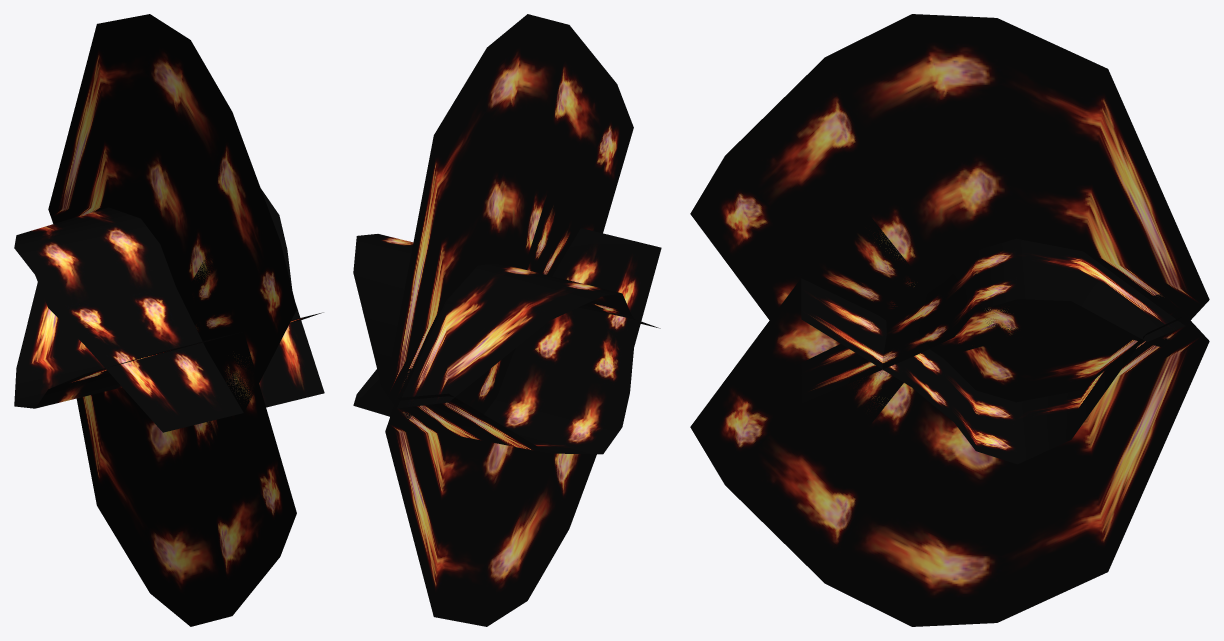
Rendered from linghunzhizhang002.fbx.
3 views of the same model, side by side, from view 1: azimuth 30°, elevation 25°; view 2: azimuth 150°, elevation 25°; view 3: azimuth 270°, elevation 25° (orthographic). The views are drawn at different scales.
Parts seen in each view (by area): view 1: linghunzhizhang002; view 2: linghunzhizhang002; view 3: linghunzhizhang002.
Boxes of the visible parts, x1,y1,x2,y2 form: linghunzhizhang002: (14, 14, 324, 626); linghunzhizhang002: (353, 14, 661, 626); linghunzhizhang002: (690, 14, 1209, 626).
Size of the model in its own units: 159 by 362 by 278.
Materials: 1 (1 with a texture image).
